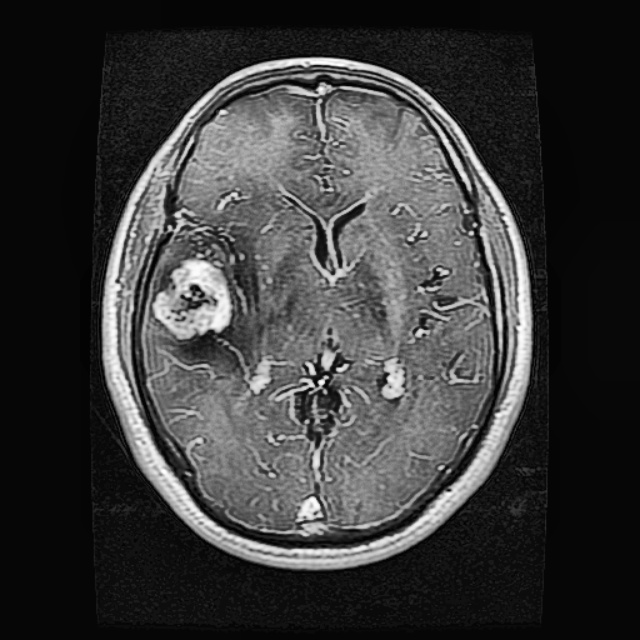Pituitary: (150, 258, 233, 340)
